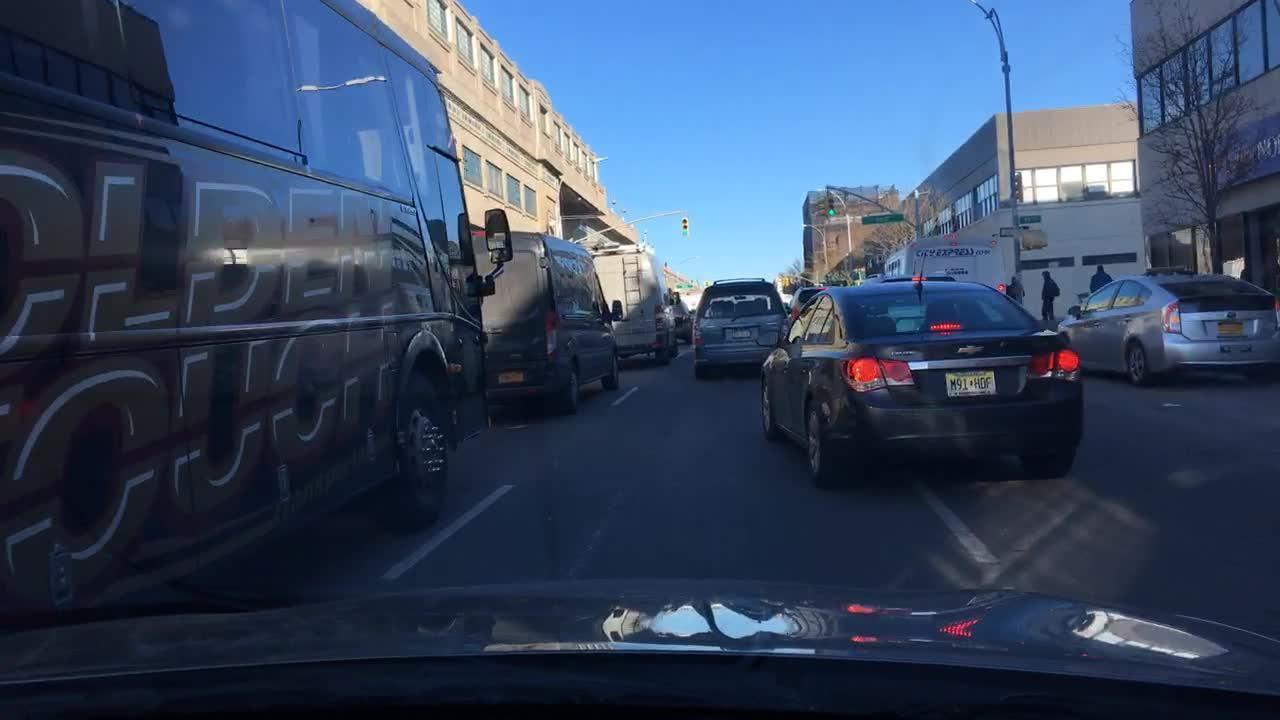chevrolet: (948, 336, 999, 363)
